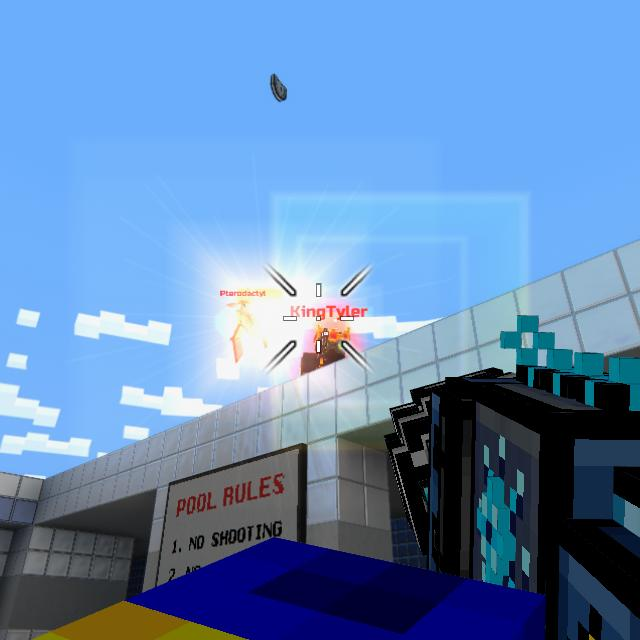Enemy: (299, 325, 348, 374)
